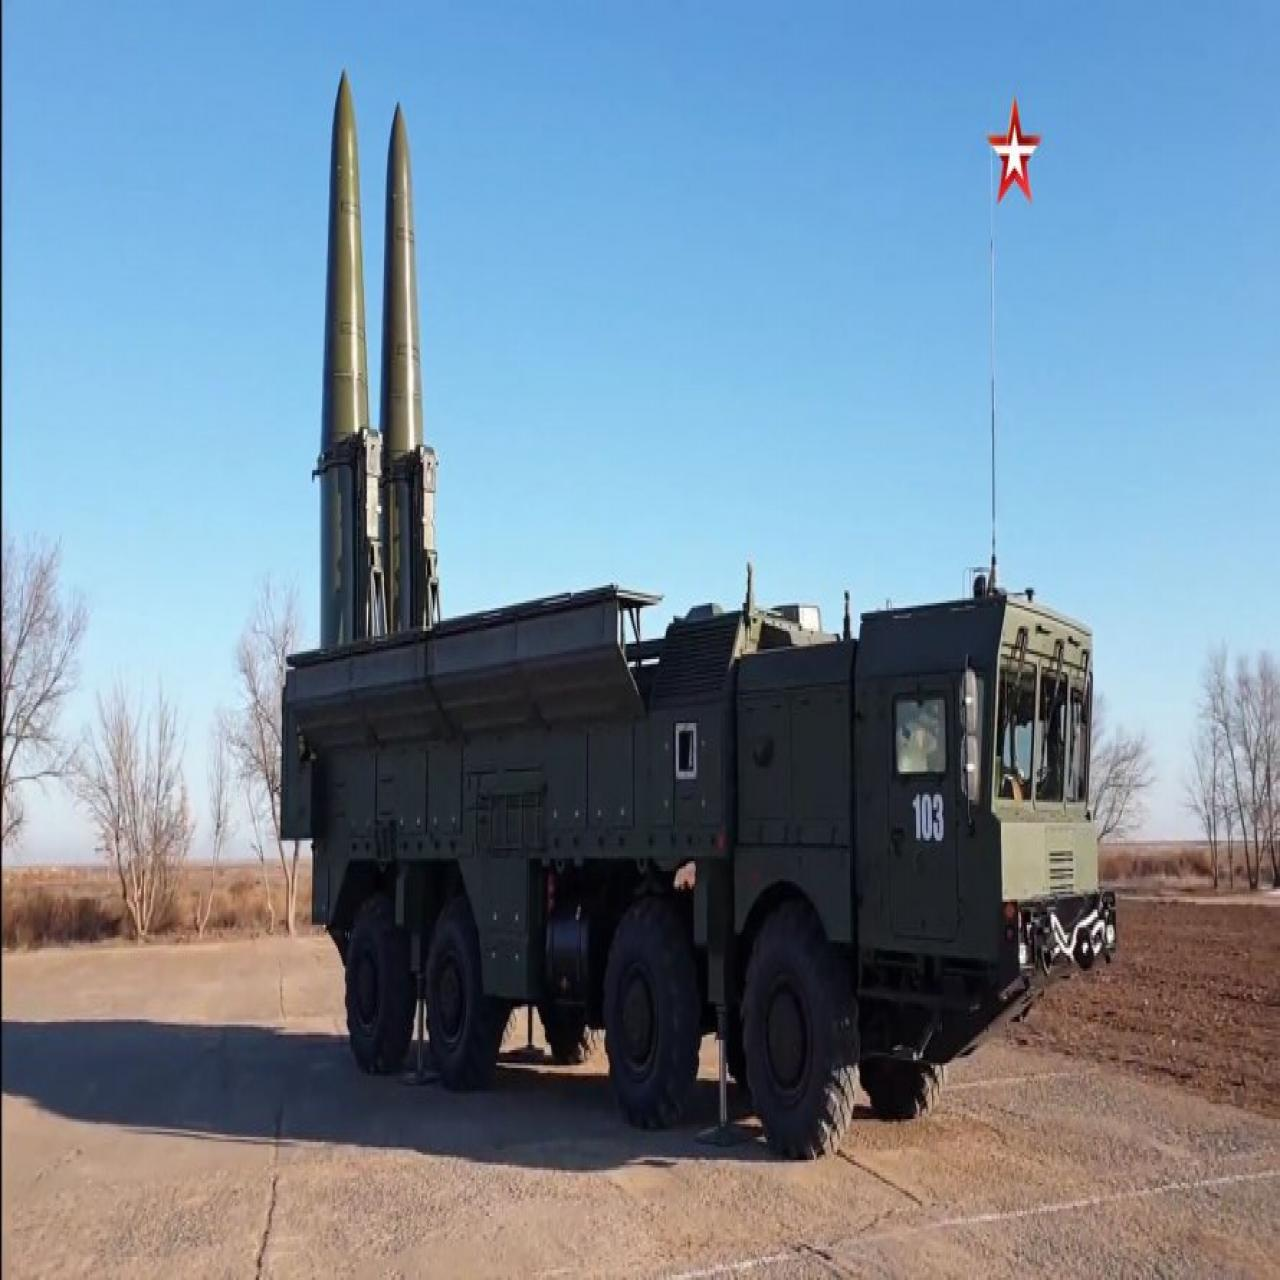MIL_Veh: (284, 76, 1107, 1146)
